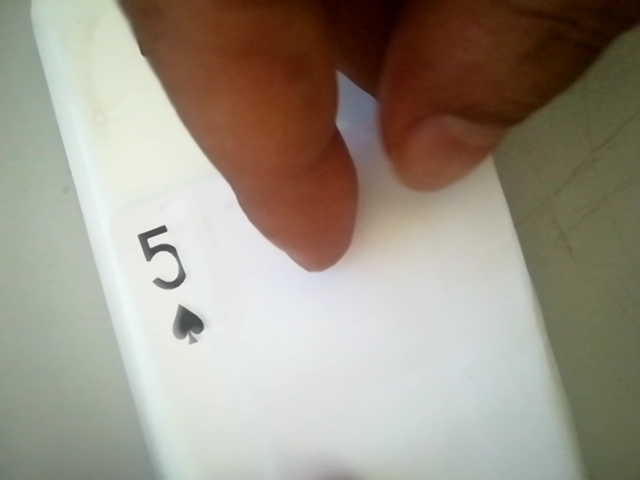ht 5: (118, 204, 220, 356)
